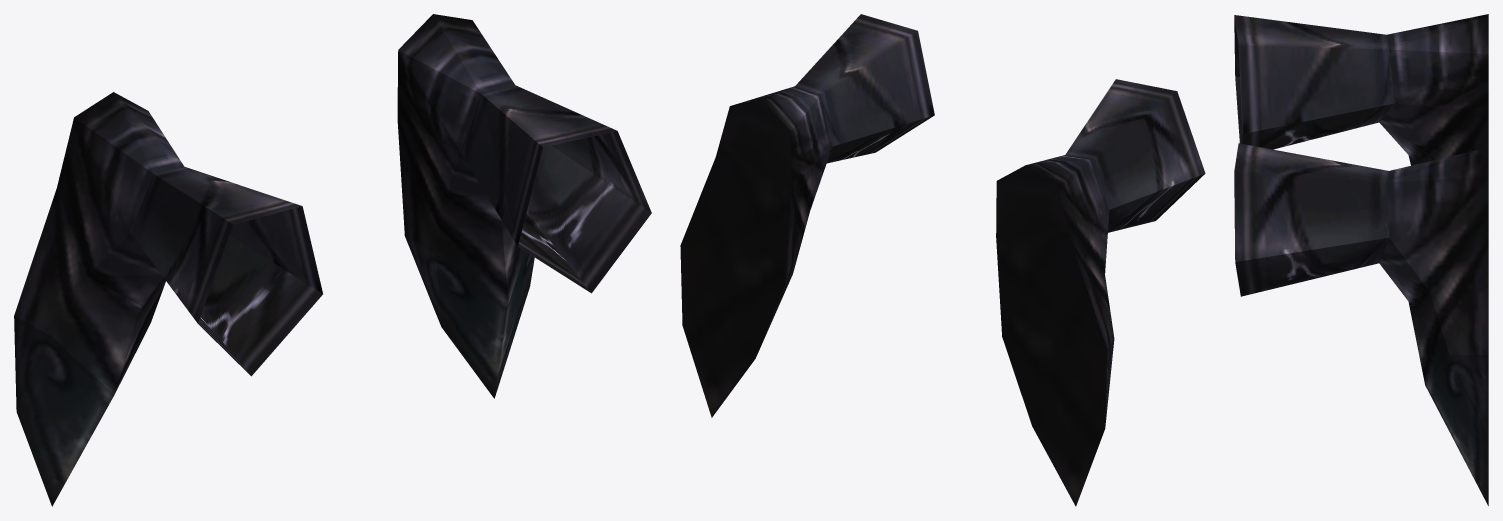
File: taoist_shoe_male_48090.obj
3 renders of one model, left to right at view 1: azimuth 30°, elevation 25°; view 2: azimuth 150°, elevation 25°; view 3: azimuth 270°, elevation 25°, orthographic. The views are drawn at different scales.
Parts seen in each view (by area): view 1: taoist_shoe_male_48090; view 2: taoist_shoe_male_48090; view 3: taoist_shoe_male_48090.
Boxes of the visible parts, x1,y1,x2,y2 form: taoist_shoe_male_48090: [14, 14, 651, 506]; taoist_shoe_male_48090: [680, 14, 1205, 506]; taoist_shoe_male_48090: [1234, 14, 1488, 505].
Size of the model in its own units: 26.25 by 19.36 by 13.35.
1 material, 1 textured.
